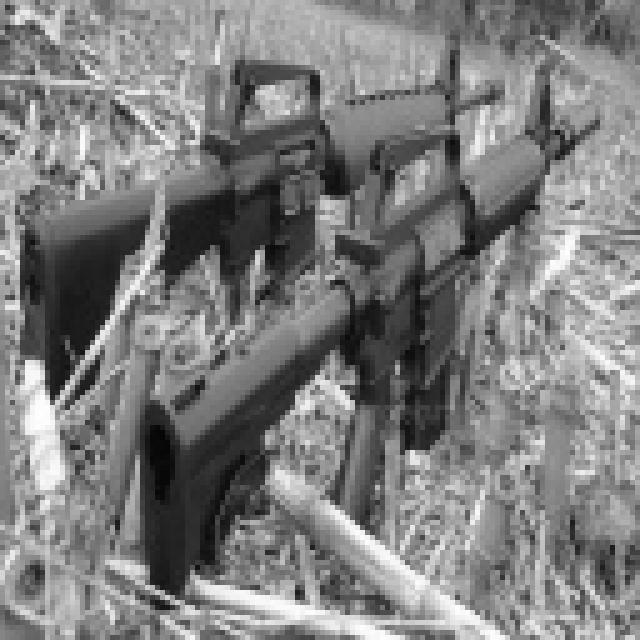Rifle: (85, 48, 627, 612), (1, 27, 517, 394)
